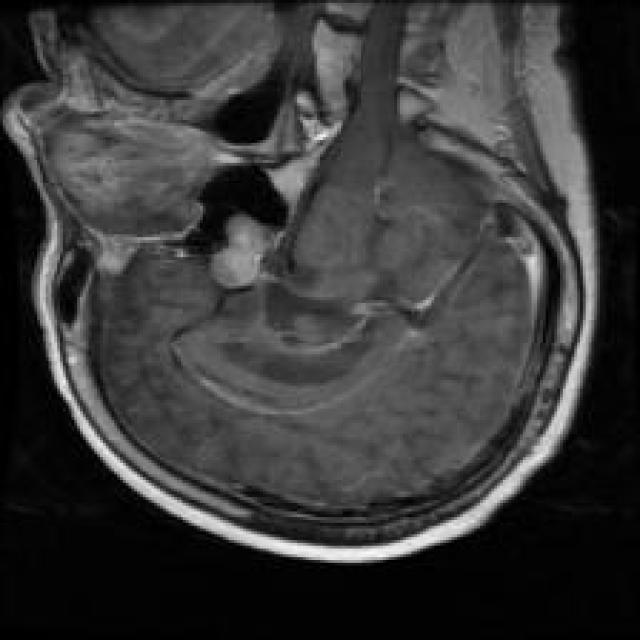pituitary_tumor: (198, 194, 302, 312)
